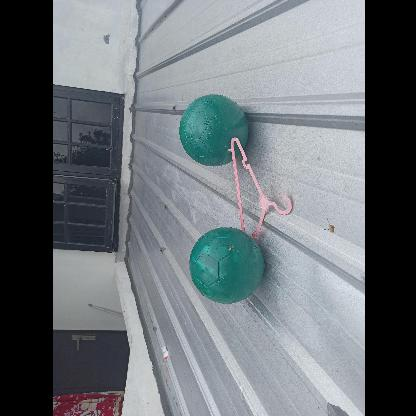green_ball: (187, 226, 264, 304), (176, 94, 248, 167)
